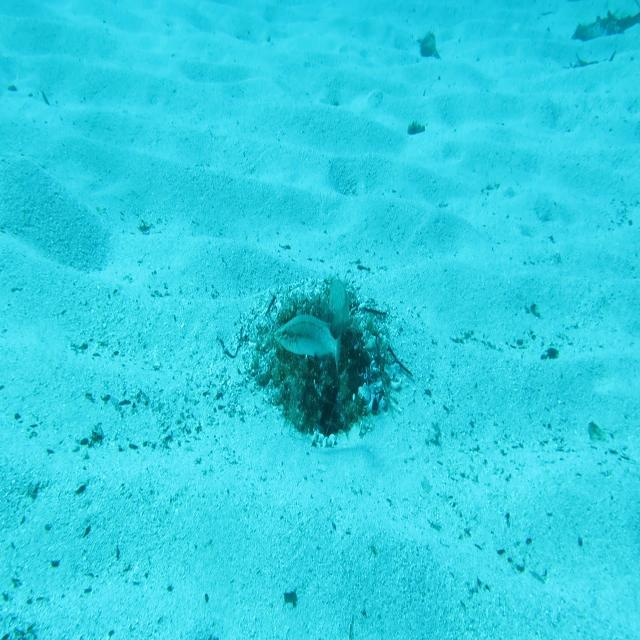NIP_CORE: (329, 276, 350, 341)
core_nest: (297, 306, 347, 341)
female: (274, 311, 344, 378)
nest: (233, 272, 404, 451)
vegetation: (567, 6, 640, 46), (416, 28, 442, 65), (406, 118, 428, 136), (282, 588, 297, 606)
